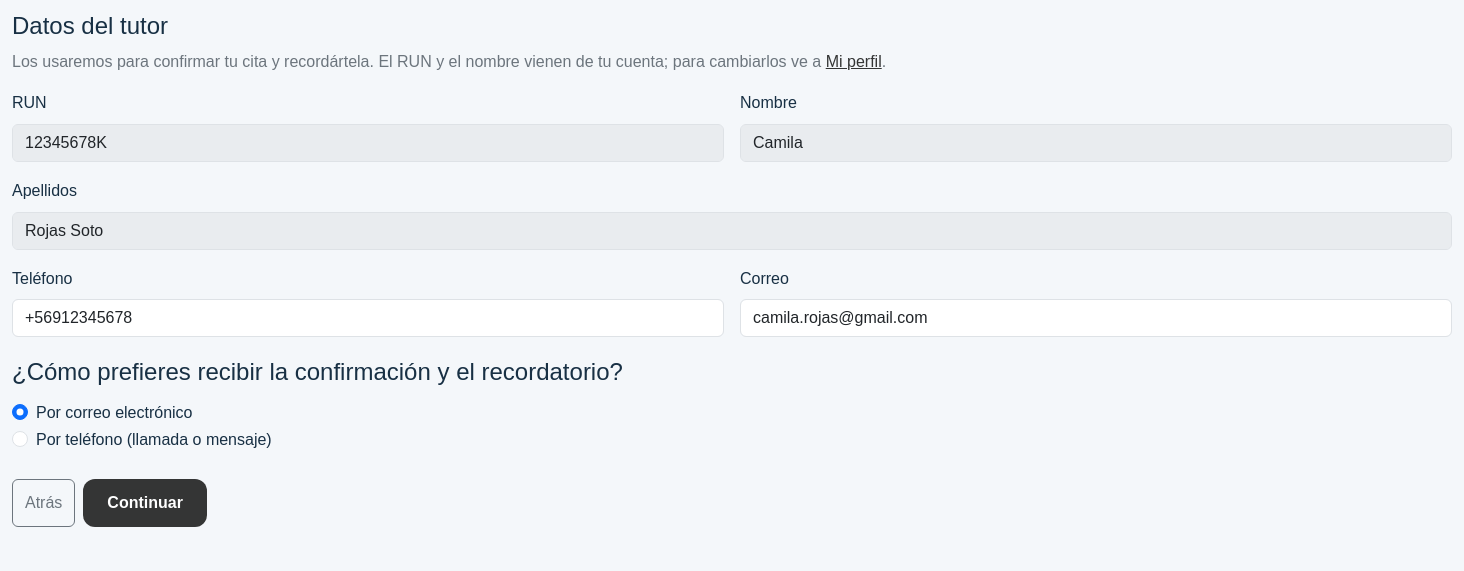
Test: PasoTutor › exige el teléfono, que en el perfil es opcional
Clear the field labelled "Teléfono" at (368, 318), box x1=12 y1=299 x2=724 y2=337
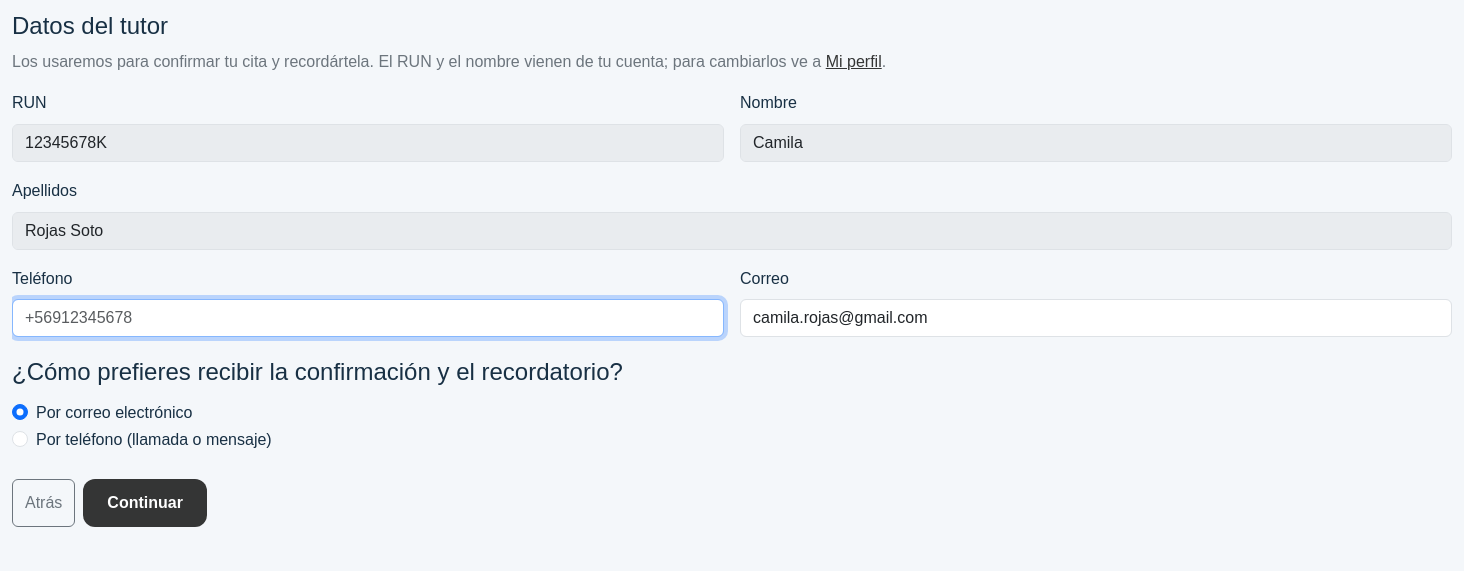
Click the button "Continuar" at (145, 503), box x1=83 y1=479 x2=207 y2=527
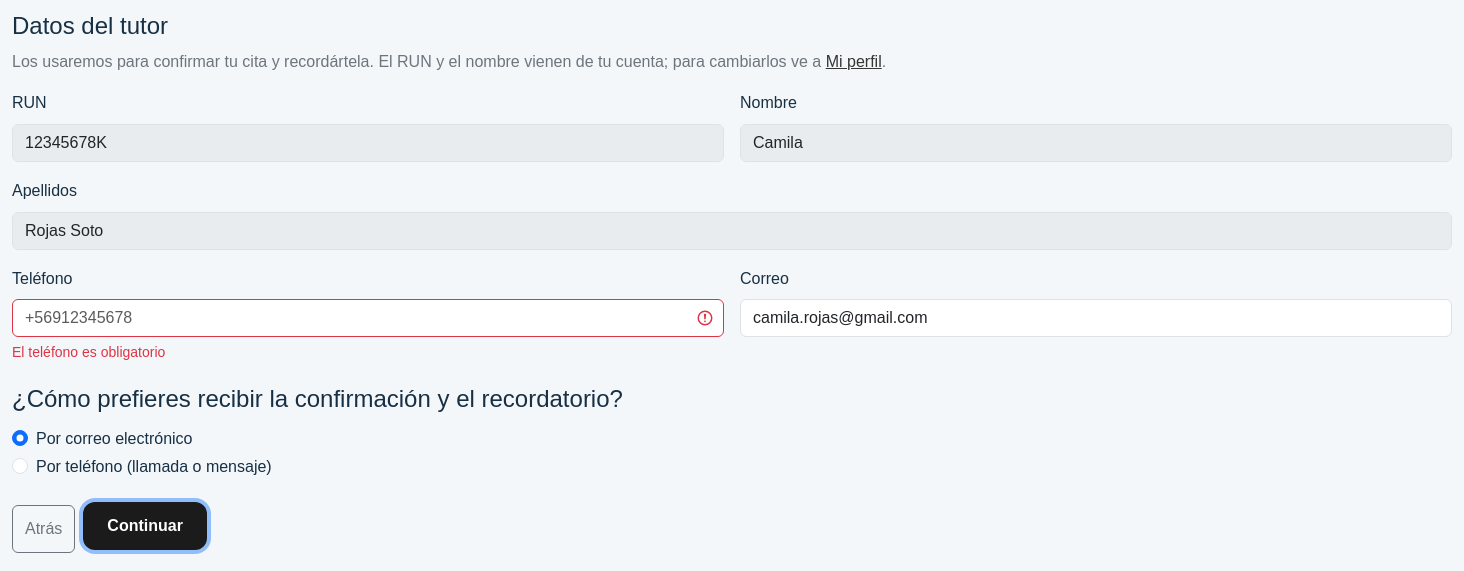
Expected: the text "El teléfono es obligatorio" is shown, x1=12 y1=344 x2=165 y2=360
